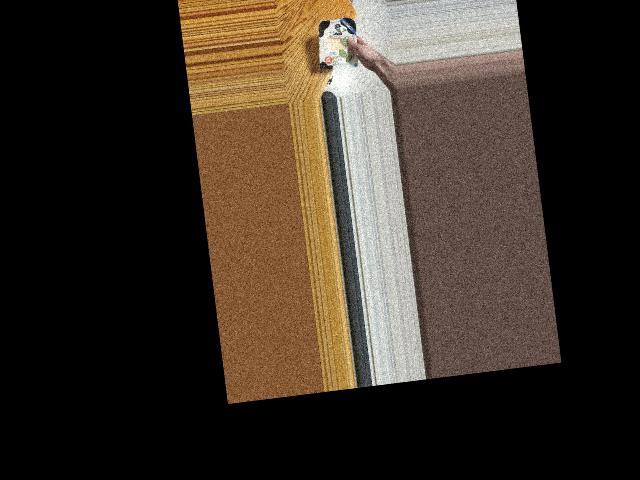cheese: (313, 8, 360, 79)
